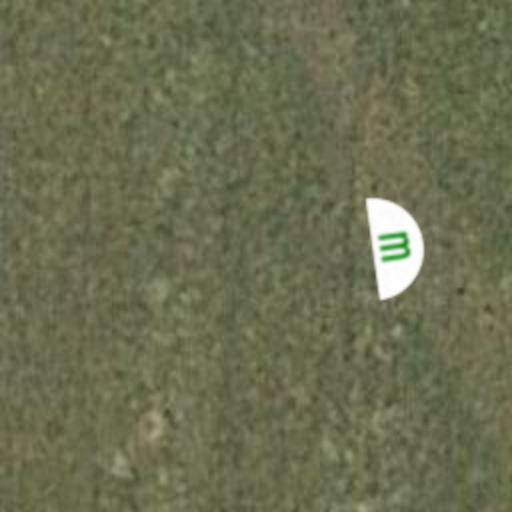semicircle: (340, 188, 456, 304)
